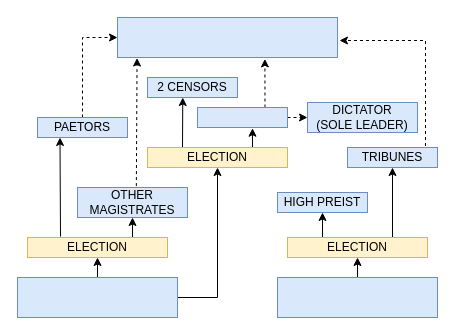
Image size: 455x335. Some labels were removed from this diagram. Here are the shapes that lost their labels. From the top down, the box of each, then its label:
(116, 16, 338, 58): SENATE (COUNCIL OF EX-MAGISTRATES)
(196, 106, 288, 128): 2 CONSULS
(16, 276, 178, 318): COMITIA CENTURIATA (CENTURIATE ASSEMBLY)
(276, 276, 438, 318): COMITIA TRIBUTA (TRIBAL ASSEMBLY)
